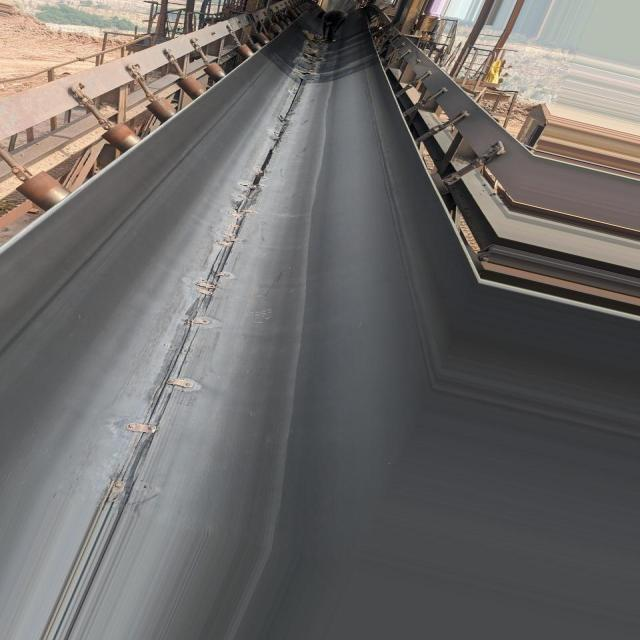Human: (318, 7, 350, 39)
Roller: (12, 10, 299, 210)
Tear: (229, 81, 313, 222)
patch work: (37, 230, 245, 630), (293, 27, 327, 68)
